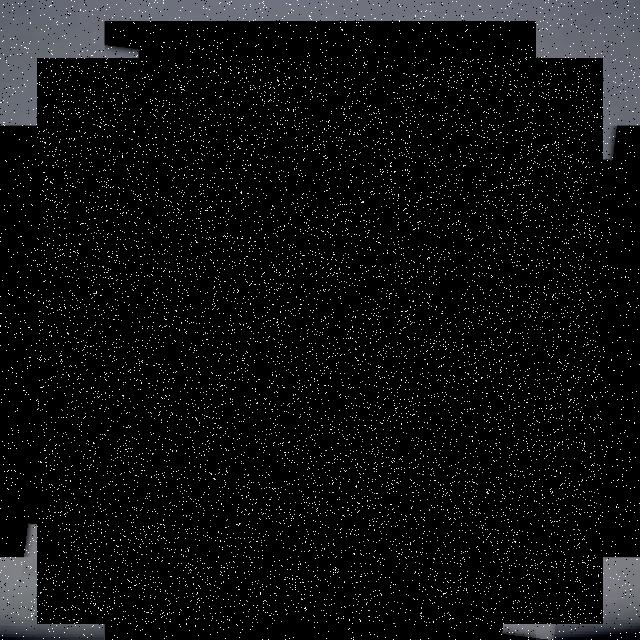dua puluh ribu rupiah: (37, 58, 603, 624)
